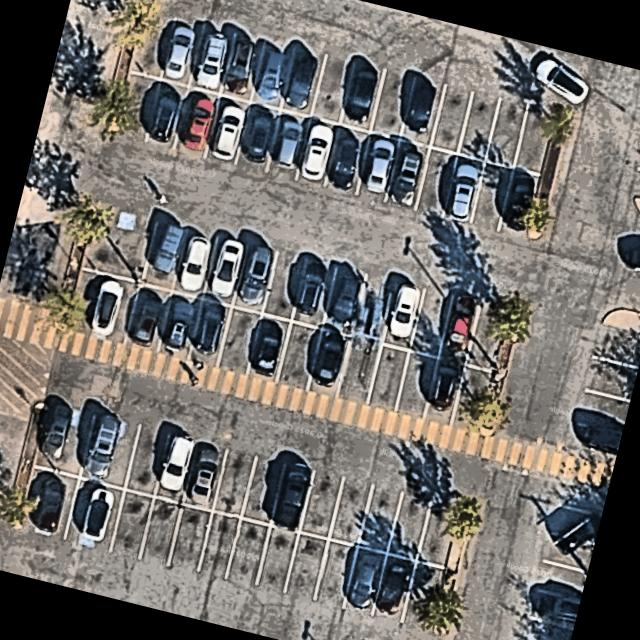car: (270, 456, 314, 529), (79, 409, 122, 478), (342, 546, 384, 611), (234, 242, 274, 308), (440, 293, 479, 360), (279, 50, 321, 111), (185, 443, 223, 507), (35, 398, 73, 462), (341, 66, 381, 126), (157, 431, 195, 494), (385, 147, 423, 206), (373, 556, 411, 615), (208, 237, 243, 299), (239, 108, 276, 165), (180, 93, 215, 153), (30, 475, 66, 533), (177, 234, 211, 295), (445, 160, 479, 220), (361, 135, 395, 193), (299, 123, 333, 181), (211, 103, 245, 161), (311, 331, 344, 389), (88, 279, 122, 335), (81, 486, 115, 542), (552, 515, 597, 557), (252, 48, 286, 103), (193, 35, 227, 90), (500, 172, 534, 227), (129, 293, 164, 346), (149, 89, 183, 143), (161, 297, 195, 351), (402, 82, 437, 134), (328, 134, 360, 190), (386, 286, 418, 341), (295, 260, 326, 316), (326, 278, 360, 328), (151, 223, 185, 273), (162, 26, 194, 79), (250, 322, 282, 375), (193, 303, 223, 357), (272, 119, 303, 169), (427, 362, 457, 413), (225, 41, 255, 91), (584, 418, 624, 453), (547, 593, 580, 623)
lot_boundary: (0, 0, 640, 640)
objects: (478, 306, 525, 438), (430, 502, 476, 630), (4, 402, 48, 527), (524, 120, 568, 240), (100, 13, 144, 132), (52, 215, 95, 329), (349, 269, 397, 343), (335, 333, 381, 403), (603, 305, 640, 331)
stall: (82, 201, 159, 283), (67, 266, 141, 343), (31, 401, 93, 476), (79, 415, 141, 489), (18, 465, 78, 539), (64, 478, 124, 550), (188, 16, 239, 95), (310, 46, 358, 125), (280, 39, 327, 117), (141, 216, 189, 292), (250, 32, 297, 109), (219, 24, 266, 101), (201, 231, 249, 306), (160, 7, 206, 85), (370, 64, 417, 140), (400, 73, 448, 147), (339, 56, 386, 131), (457, 84, 502, 161), (436, 290, 482, 365), (261, 247, 308, 320), (180, 441, 228, 512), (463, 297, 509, 371), (291, 254, 337, 328), (381, 276, 426, 351), (430, 78, 474, 154), (131, 3, 175, 79), (408, 283, 453, 357), (171, 225, 216, 299), (512, 99, 556, 174), (485, 92, 529, 167), (173, 87, 220, 157), (298, 471, 345, 541), (232, 240, 276, 314), (320, 262, 365, 334), (324, 123, 370, 193), (357, 483, 403, 553), (124, 282, 171, 350), (385, 138, 430, 209), (115, 70, 160, 141), (370, 553, 415, 623), (124, 427, 169, 497), (109, 488, 154, 558), (341, 546, 387, 614), (265, 110, 311, 178), (157, 289, 203, 357), (245, 313, 291, 381), (275, 320, 321, 388), (146, 78, 190, 149), (295, 117, 340, 186), (306, 327, 351, 396), (240, 455, 284, 525), (386, 492, 430, 561), (212, 448, 256, 517), (314, 538, 358, 607), (204, 95, 248, 163), (269, 464, 313, 532), (138, 498, 182, 566), (168, 504, 212, 572), (283, 533, 328, 599), (442, 155, 486, 222), (218, 306, 262, 373), (328, 478, 372, 545), (226, 517, 270, 584), (154, 433, 196, 503), (356, 132, 399, 200), (236, 103, 280, 169), (197, 511, 240, 578), (255, 526, 299, 591), (416, 148, 458, 216), (416, 498, 458, 566), (402, 560, 444, 628), (471, 162, 513, 229), (367, 342, 409, 409), (187, 300, 230, 364), (395, 349, 436, 415), (450, 365, 490, 431), (424, 359, 464, 422), (498, 170, 537, 233), (587, 355, 638, 401), (550, 503, 602, 545), (593, 323, 640, 367), (536, 561, 587, 601), (529, 588, 580, 628), (574, 416, 623, 456), (544, 533, 594, 571), (579, 390, 629, 426), (523, 617, 573, 640)
